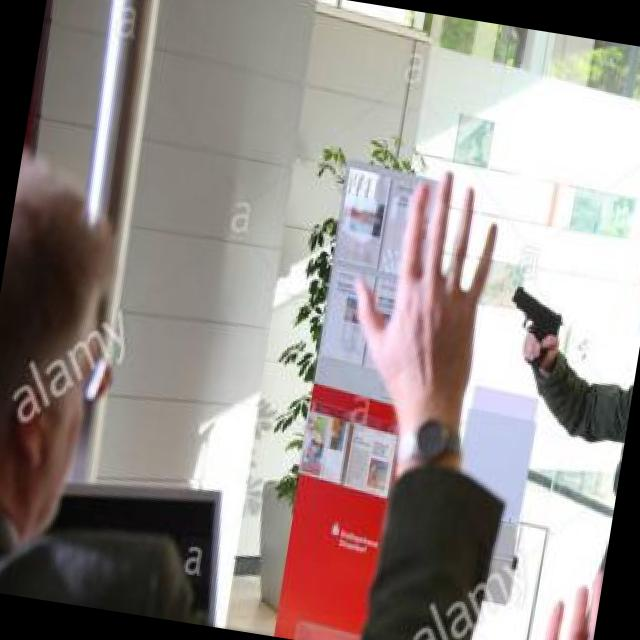Guns: (492, 266, 582, 373)
